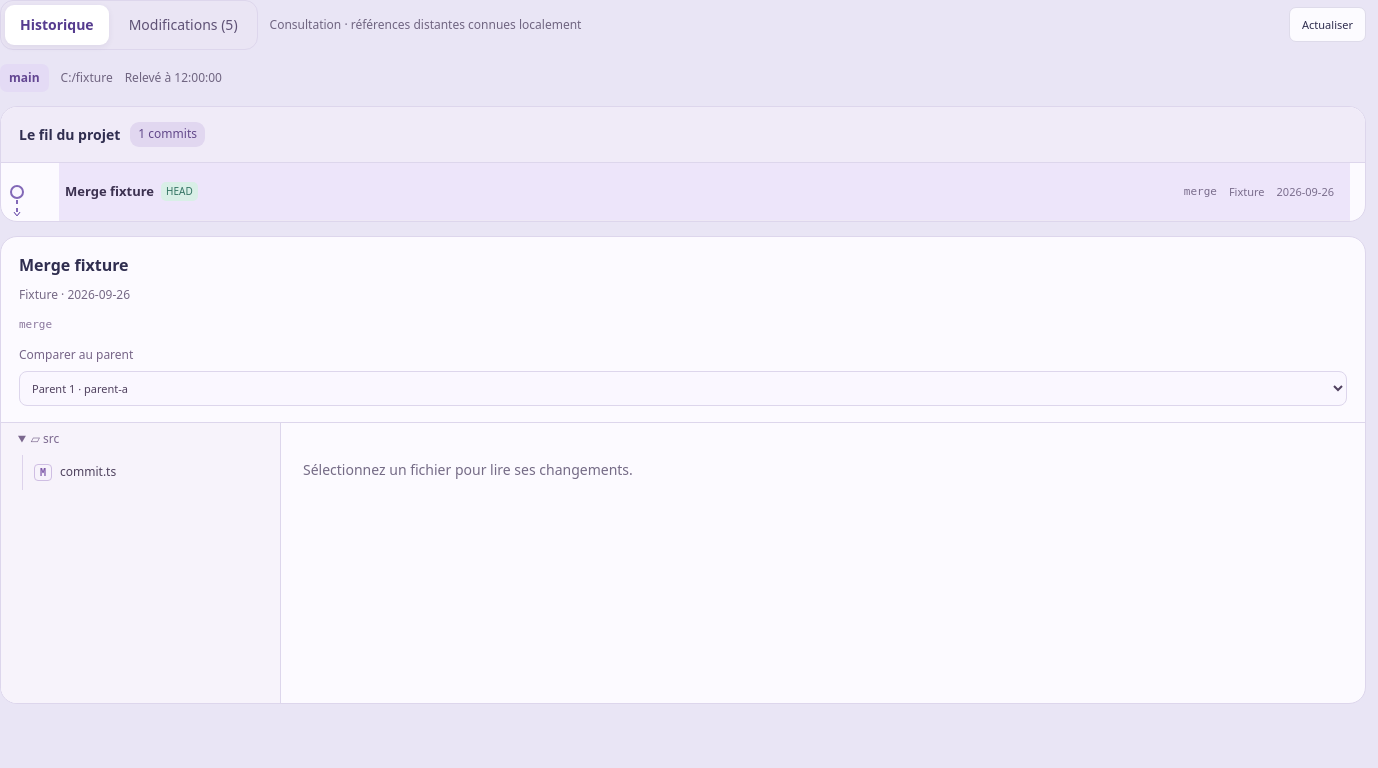
Test case: ignores an old project response and displays read errors
The width and height of the screenshot is (1378, 768).
Expected: the heading "Merge fixture" is shown, [19,254,129,276]
Click the button "Actualiser" at [1328, 25], box [1289,7,1366,42]
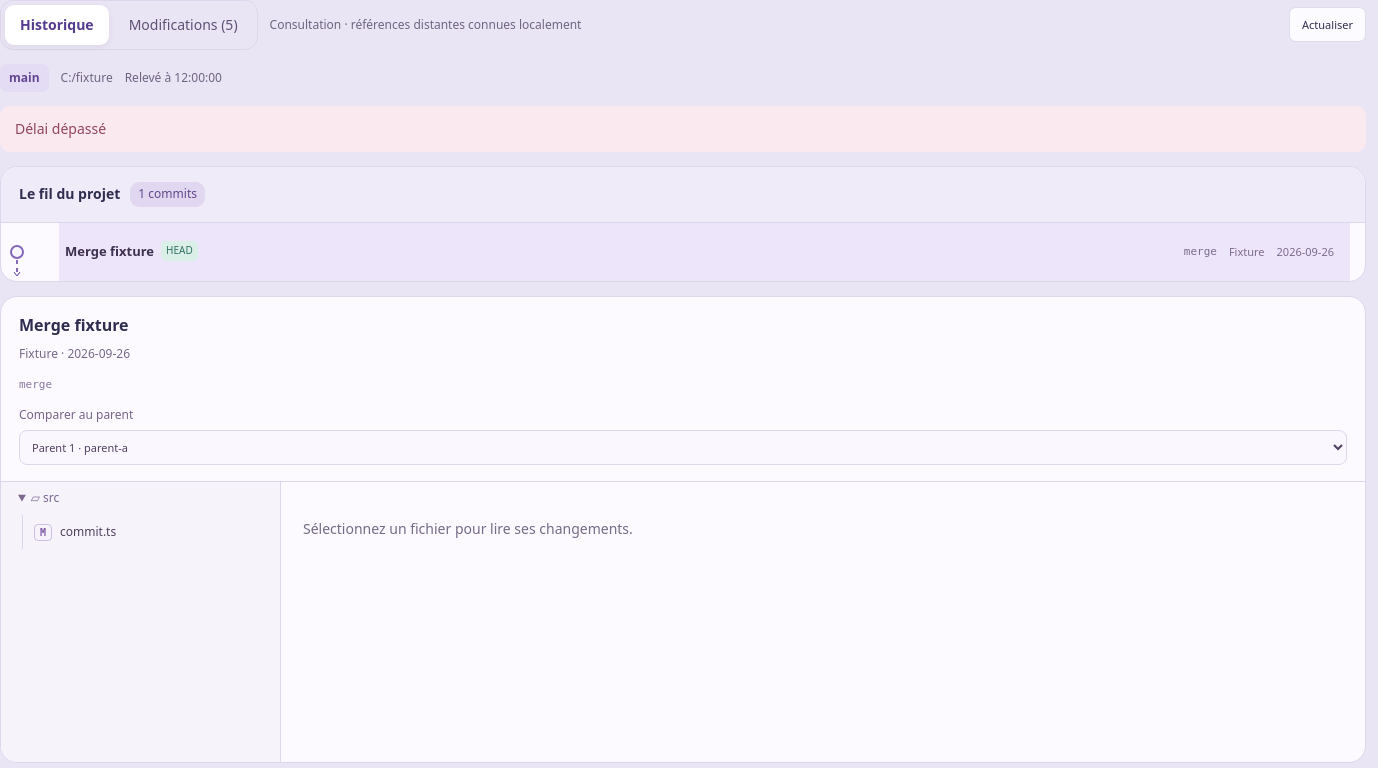
Expected: the message reads "Délai dépassé", [15,119,106,138]
